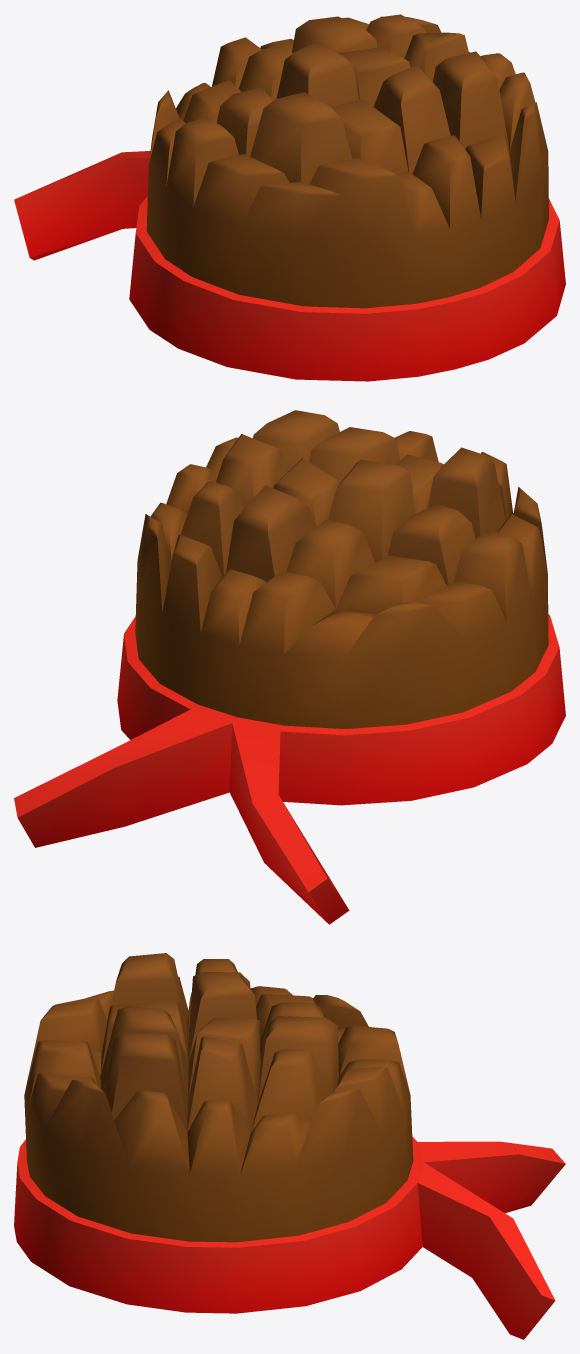
The model's file is grenader_Hat.fbx.
3 views of the same model, one above another, from view 1: azimuth 30°, elevation 25°; view 2: azimuth 150°, elevation 25°; view 3: azimuth 270°, elevation 25° (orthographic). The views are drawn at different scales.
Parts seen in each view (by area): view 1: Stickman_heads_sphere.005; view 2: Stickman_heads_sphere.005; view 3: Stickman_heads_sphere.005.
Part boxes in pixels (x1=…): Stickman_heads_sphere.005: x1=14, y1=14, x2=565, y2=381; Stickman_heads_sphere.005: x1=14, y1=410, x2=565, y2=924; Stickman_heads_sphere.005: x1=14, y1=953, x2=565, y2=1339.
Size of the model in its own units: 0.6338 by 0.4721 by 0.8365.
1 material, 1 textured.
